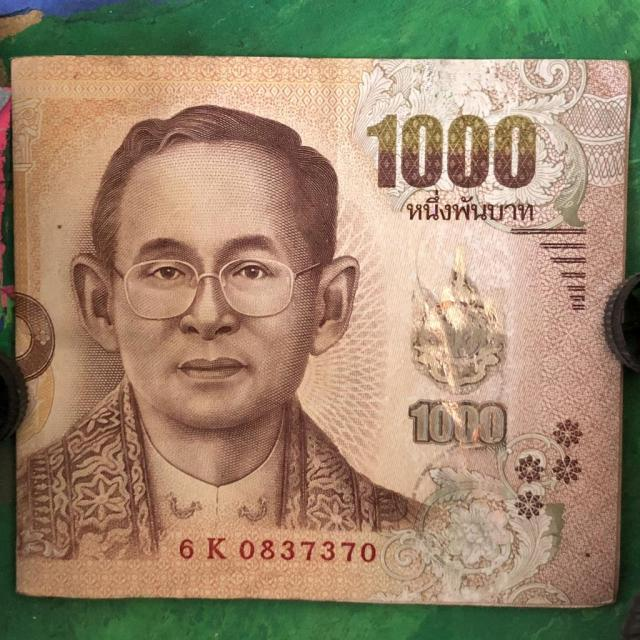THAI1000: (8, 56, 632, 610)
